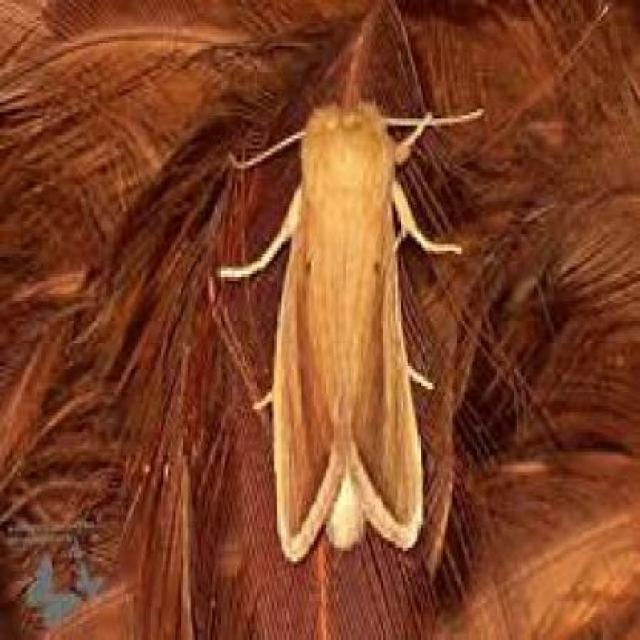stem-borer: (268, 93, 430, 562)
